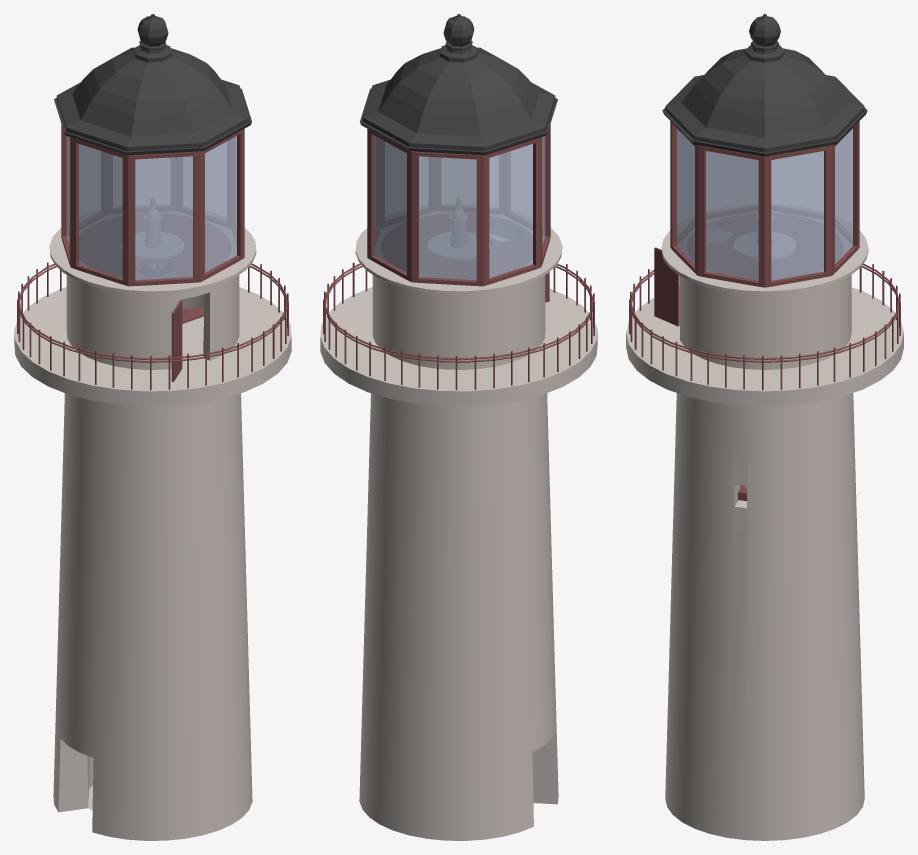
File: lighthouse_WIP.fbx
3 renders of one model, left to right at view 1: azimuth 30°, elevation 25°; view 2: azimuth 150°, elevation 25°; view 3: azimuth 270°, elevation 25°, orthographic.
Parts seen in each view (by area): view 1: Lighthouse_outside, glass.001, roof.001, glass_frame, railing_array_balcony, railing, Lighthouse_outside.001, Lighthouse_outside.003; view 2: Lighthouse_outside, glass.001, roof.001, glass_frame, railing_array_balcony, railing; view 3: Lighthouse_outside, glass.001, roof.001, glass_frame, railing_array_balcony, railing, Lighthouse_outside.001.
Boxes of the visible parts, left/top/right/bottom form: Lighthouse_outside: left=14, top=228, right=291, bottom=840; glass.001: left=66, top=136, right=236, bottom=280; roof.001: left=54, top=14, right=251, bottom=155; glass_frame: left=61, top=124, right=244, bottom=286; railing_array_balcony: left=17, top=262, right=288, bottom=390; railing: left=18, top=263, right=287, bottom=362; Lighthouse_outside.001: left=171, top=300, right=182, bottom=381; Lighthouse_outside.003: left=182, top=316, right=203, bottom=362; Lighthouse_outside: left=320, top=228, right=597, bottom=840; glass.001: left=375, top=136, right=545, bottom=280; roof.001: left=360, top=14, right=557, bottom=155; glass_frame: left=367, top=124, right=550, bottom=286; railing_array_balcony: left=323, top=262, right=594, bottom=390; railing: left=324, top=263, right=593, bottom=362; Lighthouse_outside: left=626, top=230, right=903, bottom=840; glass.001: left=677, top=129, right=852, bottom=280; roof.001: left=662, top=14, right=867, bottom=156; glass_frame: left=670, top=121, right=859, bottom=287; railing_array_balcony: left=629, top=264, right=900, bottom=390; railing: left=630, top=263, right=899, bottom=362; Lighthouse_outside.001: left=654, top=247, right=679, bottom=326.
Bounding box in the file's own units: 770 × 2399 × 770.
